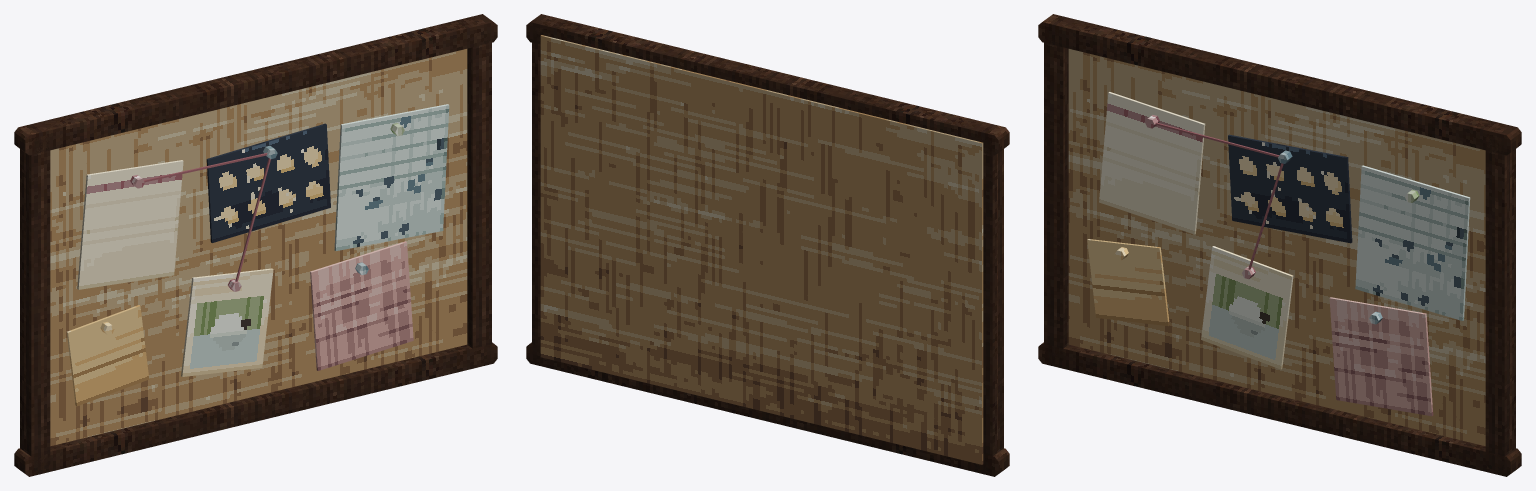
File: corkboard.glb
The picture shows the model from 3 angles, left to right: view 1: azimuth 30°, elevation 25°; view 2: azimuth 150°, elevation 25°; view 3: azimuth 330°, elevation 25°; orthographic projection.
Visible parts, largest first — view 1: cork, frameH_1, n_log, frameH, n_note, n_moons, n_recipe, frameV, n_photo, frameV_1, n_sticky; view 2: cork, frameH_1, frameV, frameH, frameV_1; view 3: cork, frameH_1, n_log, frameH, n_note, n_moons, n_recipe, frameV_1, n_photo, frameV, n_sticky.
Boxes of the visible parts, x1=… form: cork: x1=50, y1=49, x2=467, y2=446; frameH_1: x1=14, y1=14, x2=497, y2=155; n_log: x1=334, y1=104, x2=449, y2=250; frameH: x1=14, y1=342, x2=497, y2=476; n_note: x1=77, y1=160, x2=183, y2=289; n_moons: x1=206, y1=123, x2=330, y2=242; n_recipe: x1=310, y1=241, x2=413, y2=370; frameV: x1=20, y1=135, x2=50, y2=471; n_photo: x1=181, y1=268, x2=273, y2=376; frameV_1: x1=467, y1=31, x2=491, y2=351; n_sticky: x1=66, y1=305, x2=149, y2=406; cork: x1=540, y1=35, x2=983, y2=464; frameH_1: x1=526, y1=14, x2=1009, y2=155; frameV: x1=973, y1=136, x2=1003, y2=471; frameH: x1=526, y1=342, x2=1009, y2=476; frameV_1: x1=532, y1=27, x2=550, y2=361; cork: x1=1068, y1=49, x2=1485, y2=446; frameH_1: x1=1038, y1=14, x2=1521, y2=155; n_log: x1=1355, y1=165, x2=1470, y2=320; frameH: x1=1038, y1=342, x2=1521, y2=476; n_note: x1=1099, y1=92, x2=1205, y2=234; n_moons: x1=1228, y1=134, x2=1352, y2=243; n_recipe: x1=1329, y1=297, x2=1433, y2=416; frameV_1: x1=1485, y1=135, x2=1515, y2=471; n_photo: x1=1201, y1=246, x2=1293, y2=369; frameV: x1=1044, y1=28, x2=1068, y2=362; n_sticky: x1=1087, y1=239, x2=1169, y2=326.
Size of the model in its own units: 2.46 by 1.7 by 0.125.
Materials: 1 (1 with a texture image).
